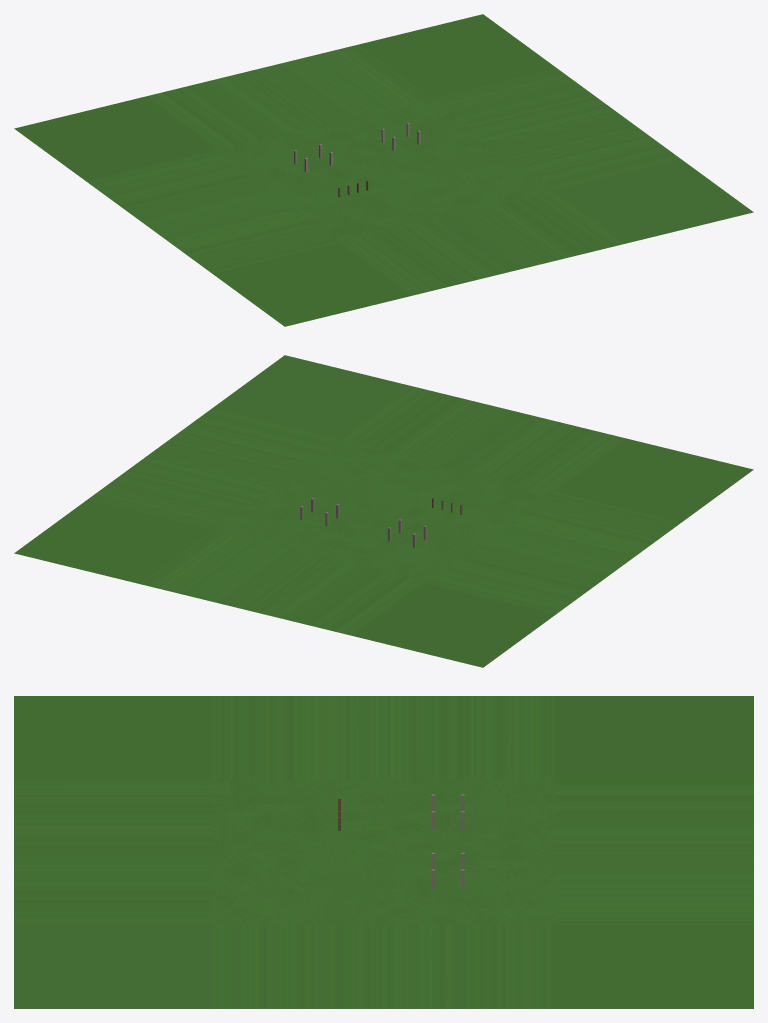
File: pnl-demo.glb
3 renders of one model, top to bottom at view 1: azimuth 30°, elevation 25°; view 2: azimuth 150°, elevation 25°; view 3: azimuth 270°, elevation 25°, orthographic. The views are drawn at different scales.
Parts seen in each view (by area): view 1: ground; view 2: ground; view 3: ground.
Boxes of the visible parts, bbox=[...] form: ground: bbox=[14, 14, 753, 326]; ground: bbox=[14, 355, 753, 667]; ground: bbox=[14, 696, 753, 1008].
Bounding box in the file's own units: 150 × 4 × 150.
